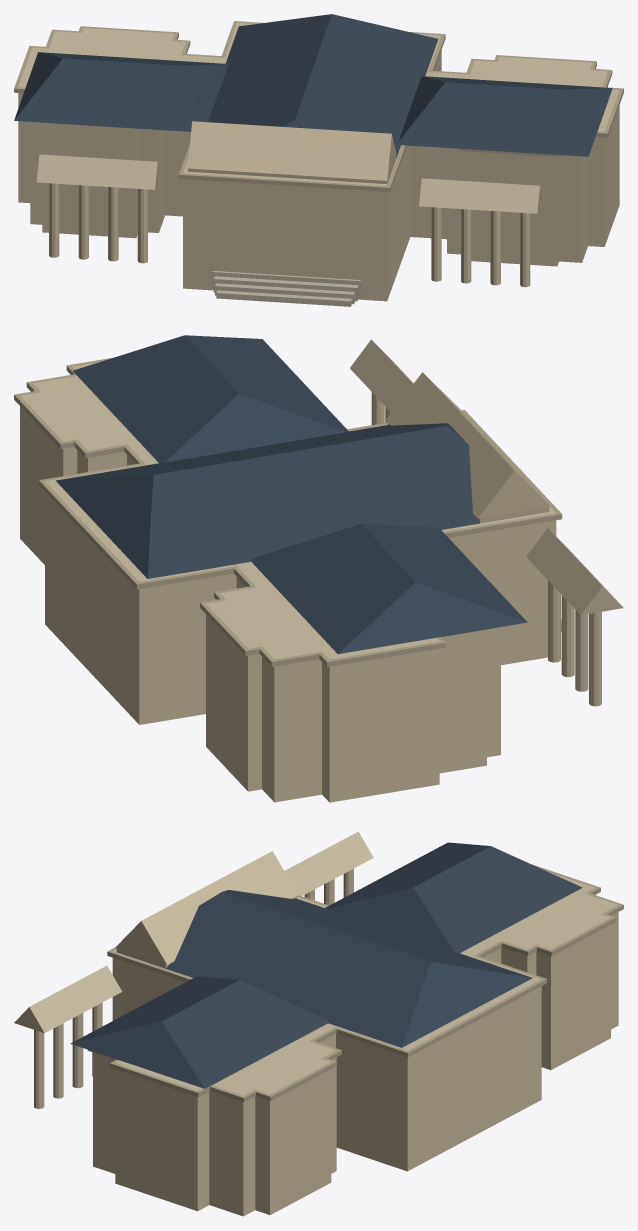
File: virginia-state-capitol.glb
3 views of the same model, one above another, from view 1: azimuth 30°, elevation 25°; view 2: azimuth 150°, elevation 25°; view 3: azimuth 270°, elevation 25° (orthographic). The views are drawn at different scales.
Visible parts, largest first — view 1: body, virginia-state-capitol_2, virginia-state-capitol_3, virginia-state-capitol_13, virginia-state-capitol_36, virginia-state-capitol_1, virginia-state-capitol_12, virginia-state-capitol_22, virginia-state-capitol_40, virginia-state-capitol_38, virginia-state-capitol_39, virginia-state-capitol_37 (+9 smaller); view 2: body, virginia-state-capitol_2, virginia-state-capitol_13, virginia-state-capitol_3, virginia-state-capitol_1, virginia-state-capitol_36, virginia-state-capitol_22, virginia-state-capitol_12, virginia-state-capitol_20, virginia-state-capitol_18, virginia-state-capitol_16, virginia-state-capitol_14; view 3: body, virginia-state-capitol_2, virginia-state-capitol_3, virginia-state-capitol_13, virginia-state-capitol_1, virginia-state-capitol_36, virginia-state-capitol_12, virginia-state-capitol_22, virginia-state-capitol_4, virginia-state-capitol_6, virginia-state-capitol_8.
Boxes of the visible parts, x1=… form: body: x1=18, y1=22, x2=619, y2=301; virginia-state-capitol_2: x1=208, y1=14, x2=438, y2=158; virginia-state-capitol_3: x1=398, y1=76, x2=612, y2=156; virginia-state-capitol_13: x1=14, y1=52, x2=228, y2=131; virginia-state-capitol_36: x1=187, y1=121, x2=396, y2=180; virginia-state-capitol_1: x1=14, y1=21, x2=623, y2=191; virginia-state-capitol_12: x1=419, y1=178, x2=542, y2=213; virginia-state-capitol_22: x1=36, y1=154, x2=160, y2=189; virginia-state-capitol_40: x1=216, y1=290, x2=351, y2=306; virginia-state-capitol_38: x1=213, y1=276, x2=358, y2=301; virginia-state-capitol_39: x1=215, y1=283, x2=354, y2=304; virginia-state-capitol_37: x1=212, y1=271, x2=360, y2=298; body: x1=20, y1=362, x2=556, y2=802; virginia-state-capitol_2: x1=56, y1=423, x2=479, y2=578; virginia-state-capitol_13: x1=251, y1=524, x2=527, y2=654; virginia-state-capitol_3: x1=73, y1=335, x2=348, y2=463; virginia-state-capitol_1: x1=14, y1=358, x2=562, y2=667; virginia-state-capitol_36: x1=386, y1=372, x2=550, y2=518; virginia-state-capitol_22: x1=526, y1=528, x2=623, y2=615; virginia-state-capitol_12: x1=350, y1=339, x2=413, y2=412; virginia-state-capitol_20: x1=589, y1=612, x2=601, y2=706; virginia-state-capitol_18: x1=575, y1=610, x2=588, y2=691; virginia-state-capitol_16: x1=561, y1=595, x2=574, y2=676; virginia-state-capitol_14: x1=548, y1=580, x2=560, y2=662; body: x1=93, y1=872, x2=618, y2=1216; virginia-state-capitol_2: x1=166, y1=890, x2=532, y2=1047; virginia-state-capitol_3: x1=70, y1=976, x2=327, y2=1088; virginia-state-capitol_13: x1=325, y1=842, x2=582, y2=953; virginia-state-capitol_1: x1=87, y1=864, x2=623, y2=1102; virginia-state-capitol_36: x1=115, y1=851, x2=298, y2=964; virginia-state-capitol_12: x1=14, y1=965, x2=122, y2=1033; virginia-state-capitol_22: x1=284, y1=831, x2=373, y2=895; virginia-state-capitol_4: x1=34, y1=1030, x2=44, y2=1108; virginia-state-capitol_6: x1=53, y1=1023, x2=63, y2=1098; virginia-state-capitol_8: x1=72, y1=1013, x2=83, y2=1088.
Bounding box in the file's own units: 81.58 × 22.6 × 77.94.
